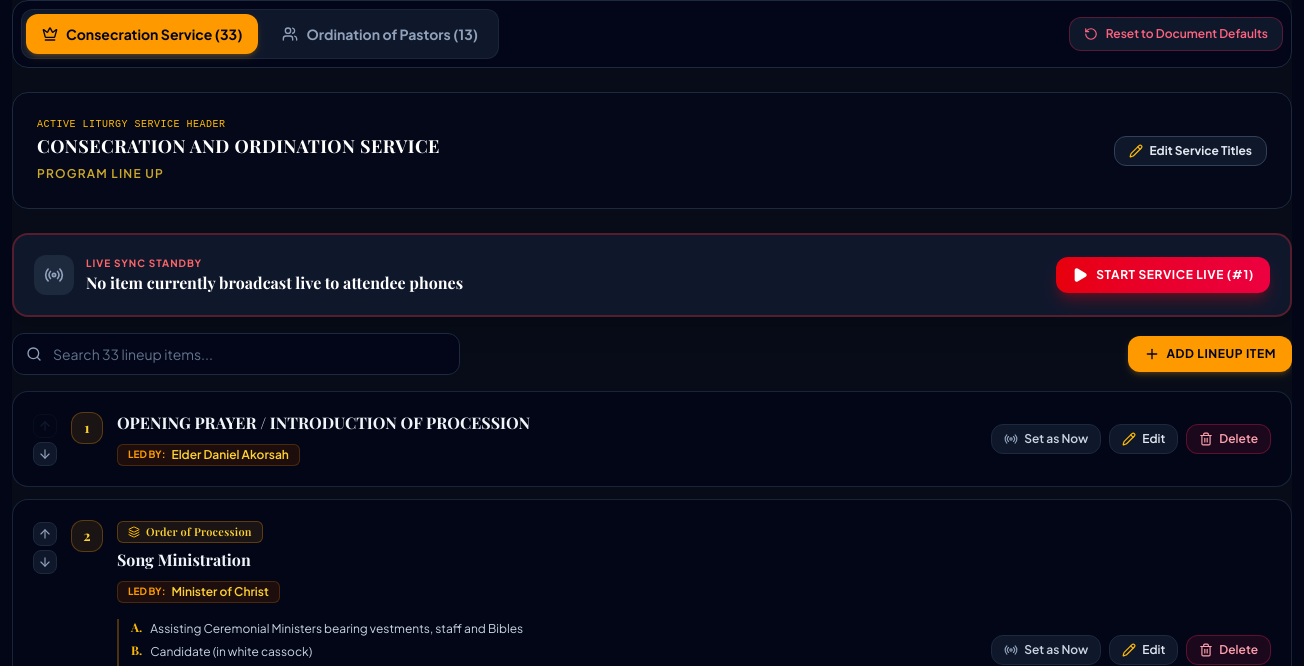
Test: ProgramLineupManager Component (Admin Liturgy Studio) › switches to Ordination of Pastors tab and displays 13 items
The image size is (1304, 666).
Click the button "Ordination of Pastors (13)". click: coordinates (380, 34)
box: [266,14,494,54]
(page scrolled)
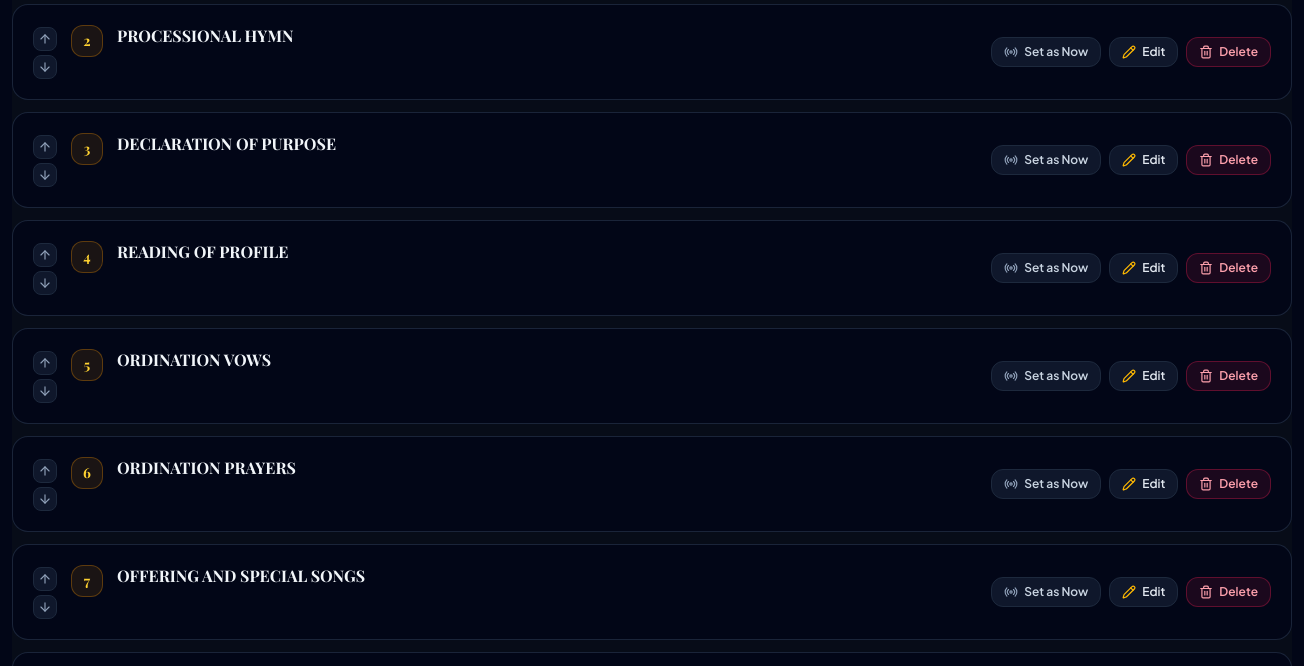
Expected: the heading "PROCESSIONAL HYMN" is shown, [117,25,294,46]
Expected: the heading "ORDINATION VOWS" is shown, [117,349,271,370]
